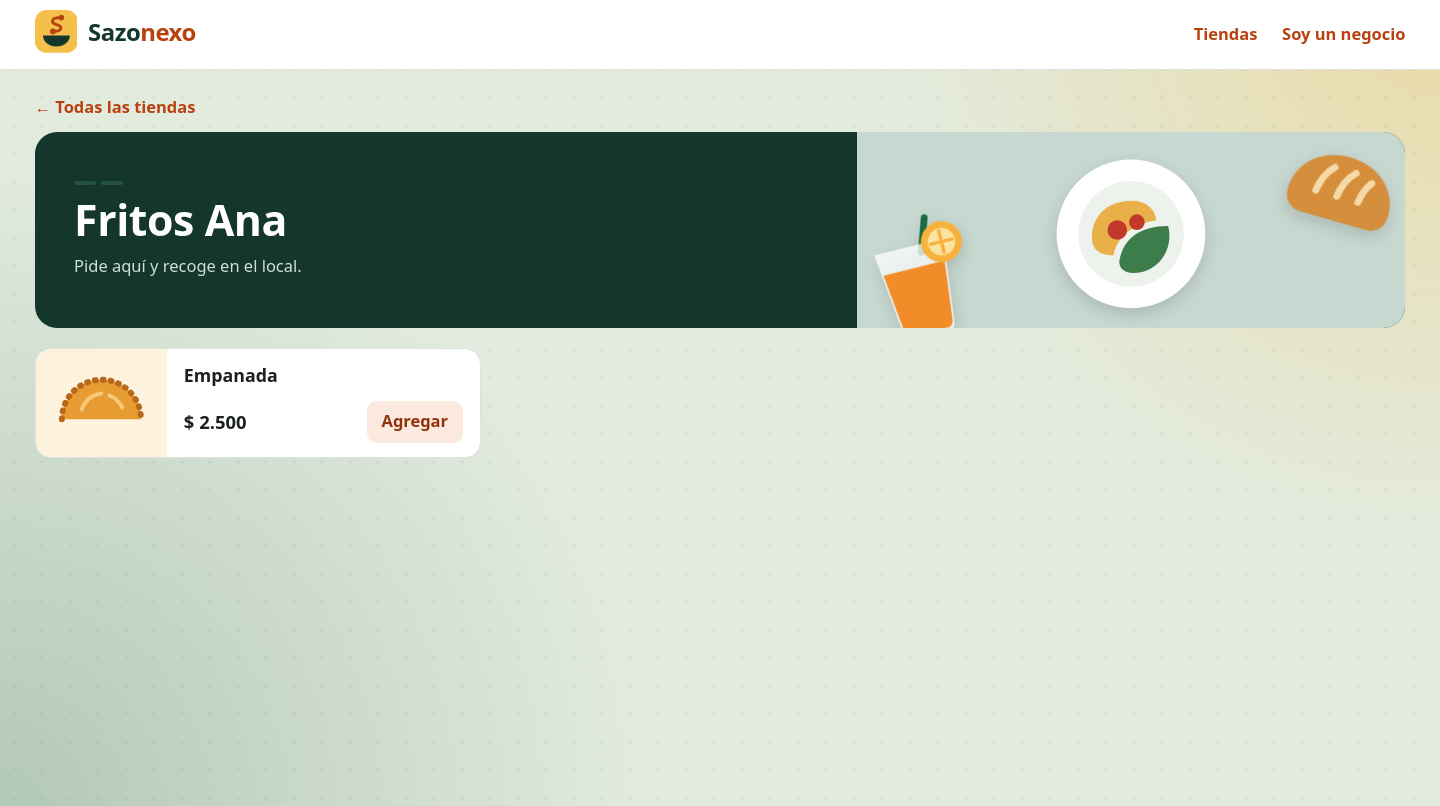
Test: HU-11 Pedidos (funcionales) › CA-1 y CA-2: el cliente arma el carrito y hace el pedido
Click the button with aria-label "Agregar Empanada": click(415, 422) [366,400,463,442]
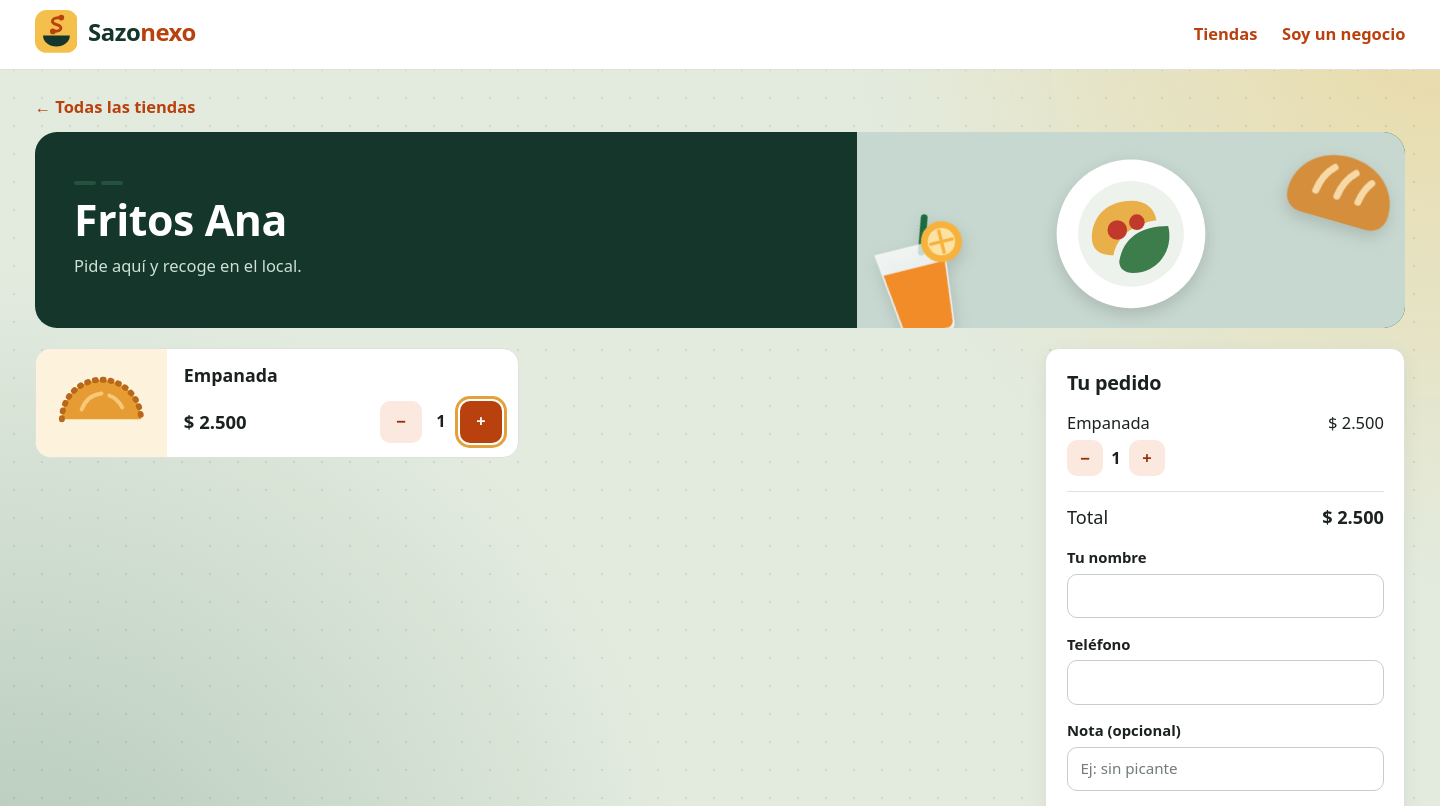
Click the button named "Agregar Empanada": click(481, 422) [460,400,502,442]
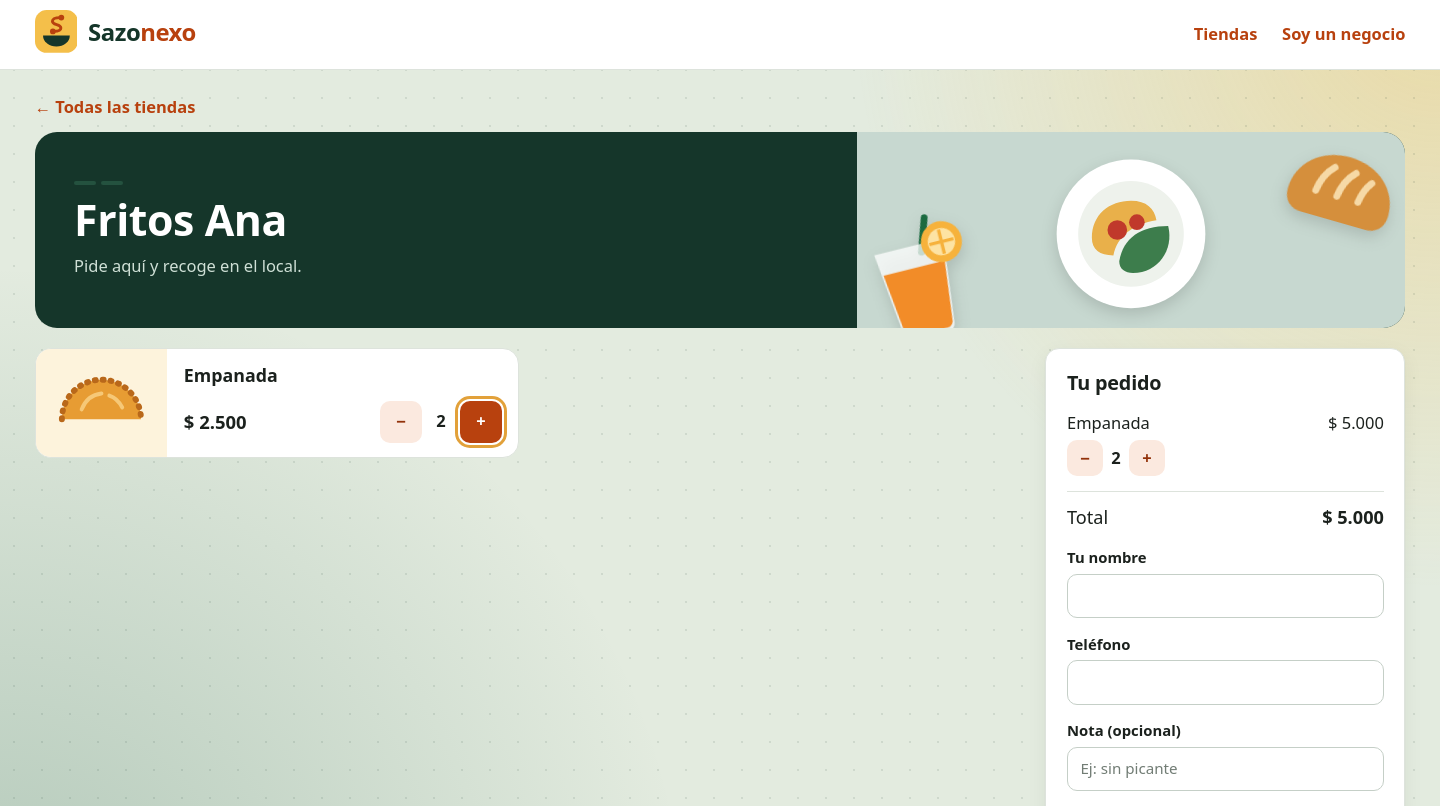
In the field labelled "Tu nombre": (1225, 596) [1067,574,1384,618], type "Luis"
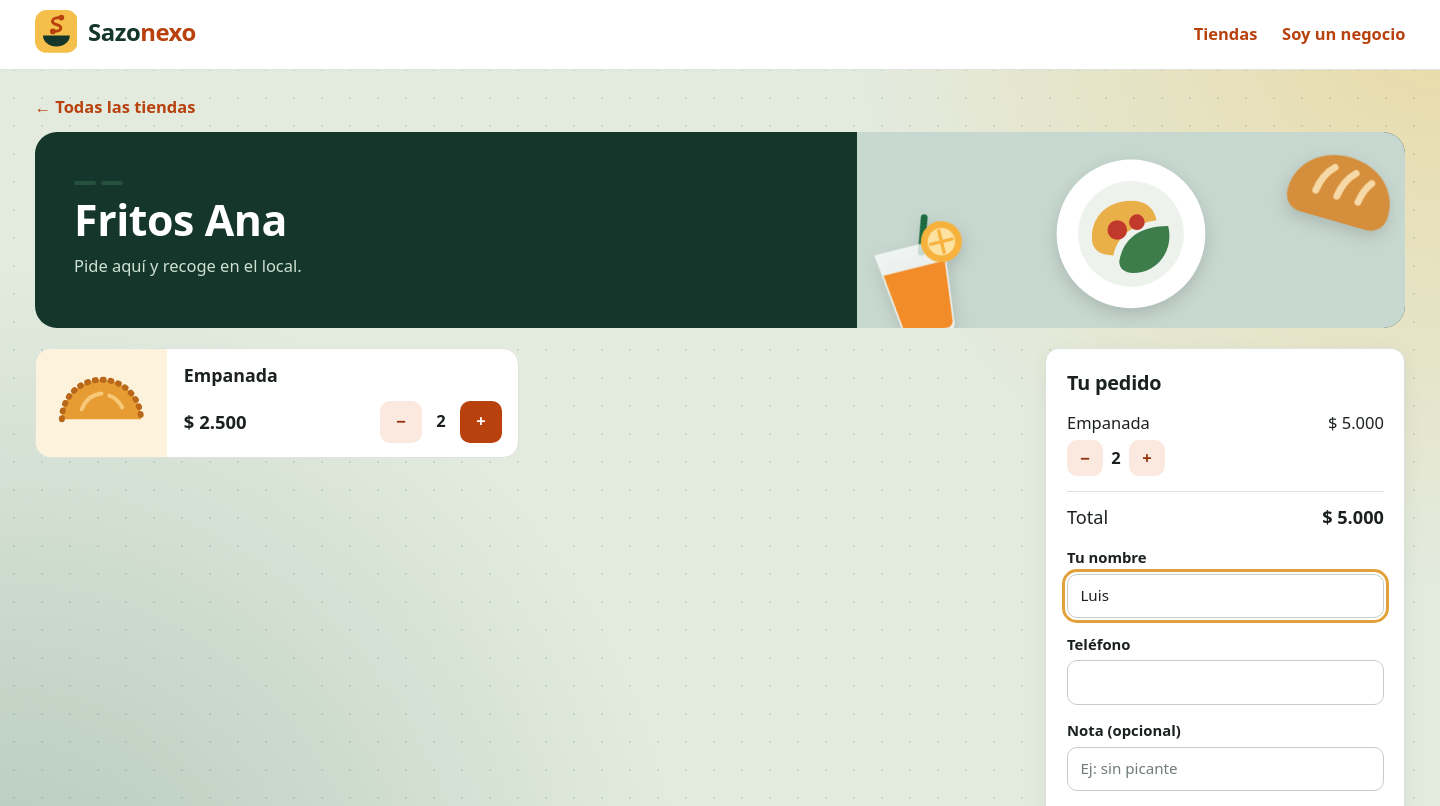
In the field labelled "Teléfono": (1225, 682) [1067,660,1384,704], type "3001234567"
(page scrolled)
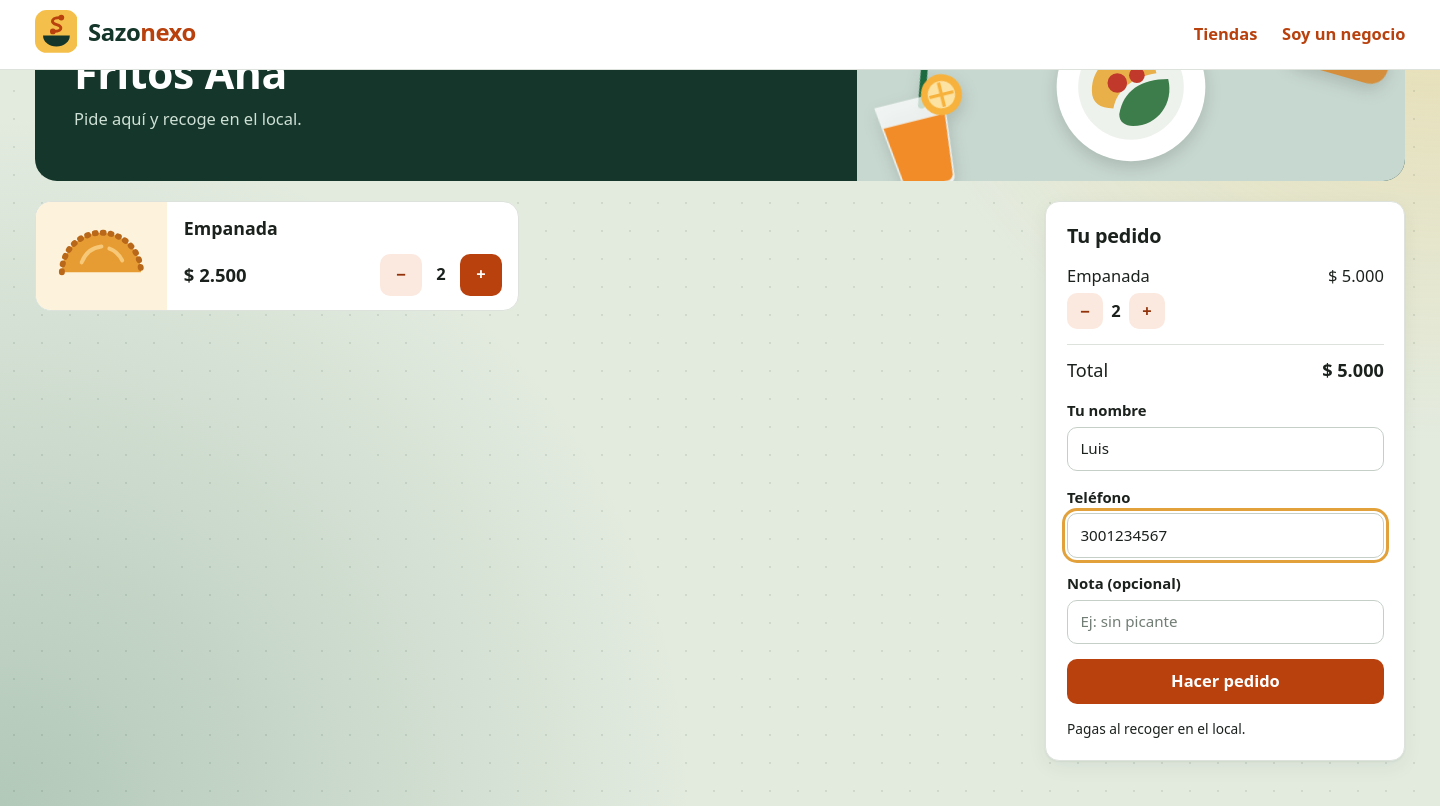
Click the button "Hacer pedido": click(1225, 681) [1067,659,1384,704]
(page scrolled)
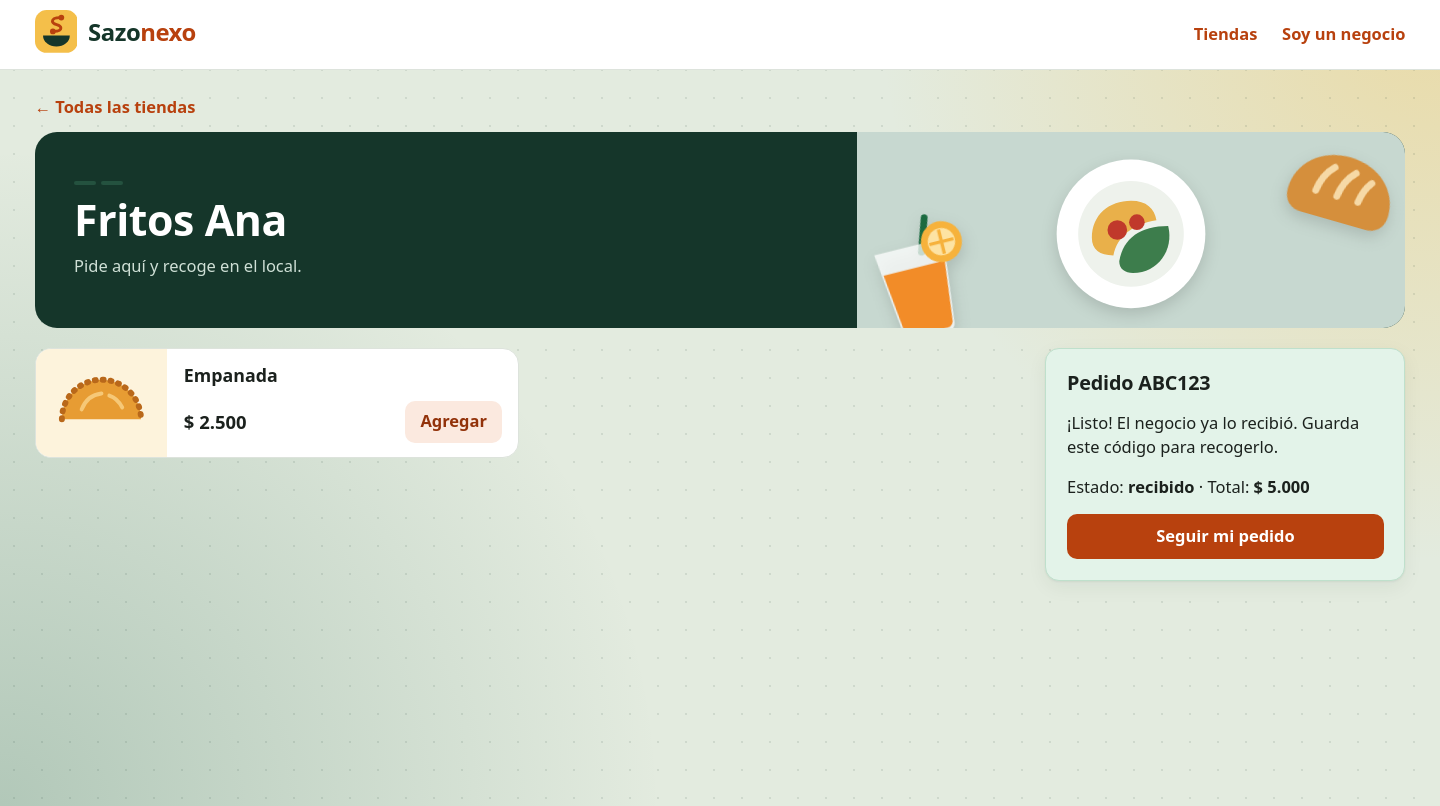
expect the heading "Pedido ABC123" is shown: met, box [1067,369,1210,396]
